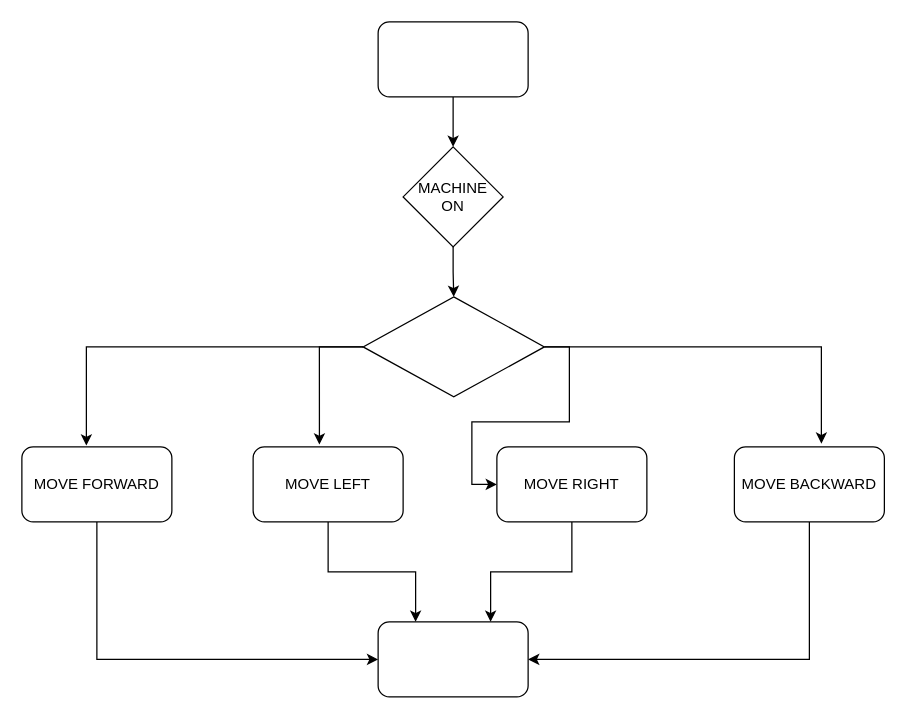
Image size: 906x719. Some labels were removed from this diagram. Here are the shapes that lost their labels. From the top down, the centre of each, then its label:
At [452,59]: "START".
At [453,346]: "TARGET AND FIRE".
At [452,659]: "STOP".
